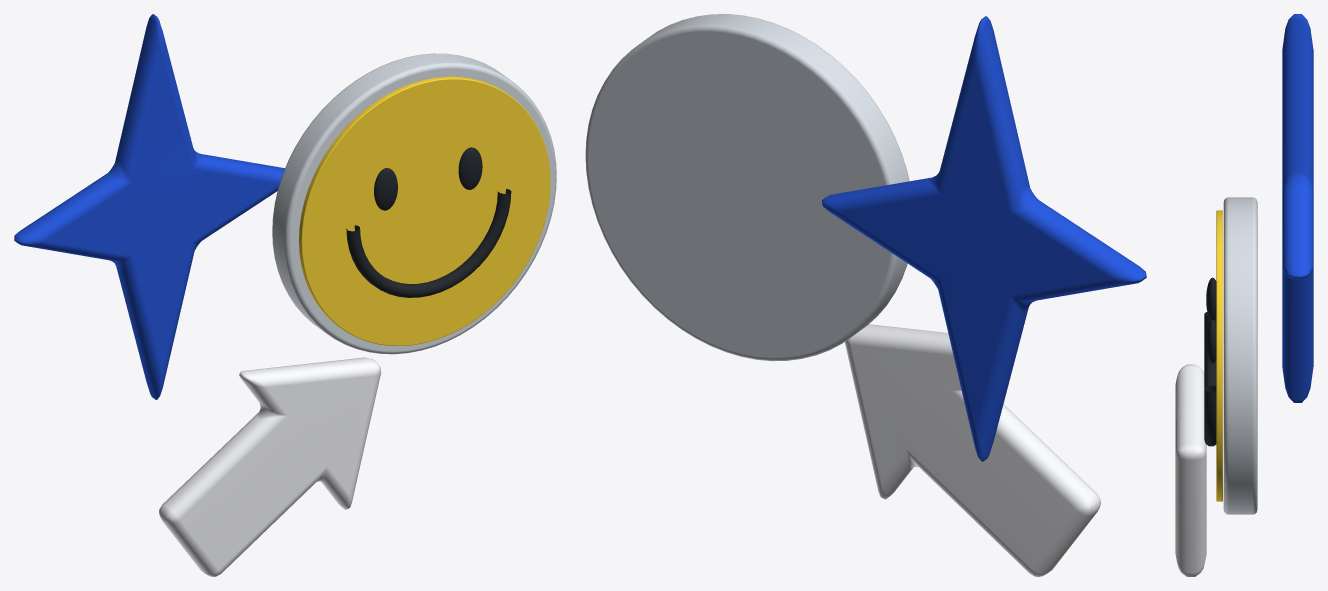
The model's file is icon.glb.
The picture shows the model from 3 angles, left to right: view 1: azimuth 30°, elevation 25°; view 2: azimuth 150°, elevation 25°; view 3: azimuth 270°, elevation 25°; orthographic projection. The views are drawn at different scales.
Visible parts, largest first — view 1: Smiley face, ICON.sparkle, ICON.arrow, Smiley chrome, Smile, Smiley eye.001, Smiley eye; view 2: Smiley chrome, ICON.sparkle, ICON.arrow; view 3: ICON.sparkle, Smiley chrome, ICON.arrow, Smiley face, Smile, Smiley eye.001, Smiley eye.
Part boxes in pixels (x1,y1,x2,y2): Smiley face: [299, 76, 550, 345]; ICON.sparkle: [14, 14, 284, 399]; ICON.arrow: [159, 357, 380, 576]; Smiley chrome: [272, 53, 556, 354]; Smile: [346, 189, 511, 297]; Smiley eye.001: [458, 147, 482, 189]; Smiley eye: [374, 168, 397, 210]; Smiley chrome: [585, 14, 909, 361]; ICON.sparkle: [822, 16, 1146, 461]; ICON.arrow: [844, 324, 1100, 576]; ICON.sparkle: [1282, 14, 1313, 402]; Smiley chrome: [1223, 197, 1257, 514]; ICON.arrow: [1175, 364, 1206, 576]; Smiley face: [1216, 210, 1222, 501]; Smile: [1204, 312, 1216, 446]; Smiley eye.001: [1206, 319, 1216, 363]; Smiley eye: [1206, 277, 1216, 320].
Size of the model in its own units: 2.24 by 2.21 by 0.5229.
